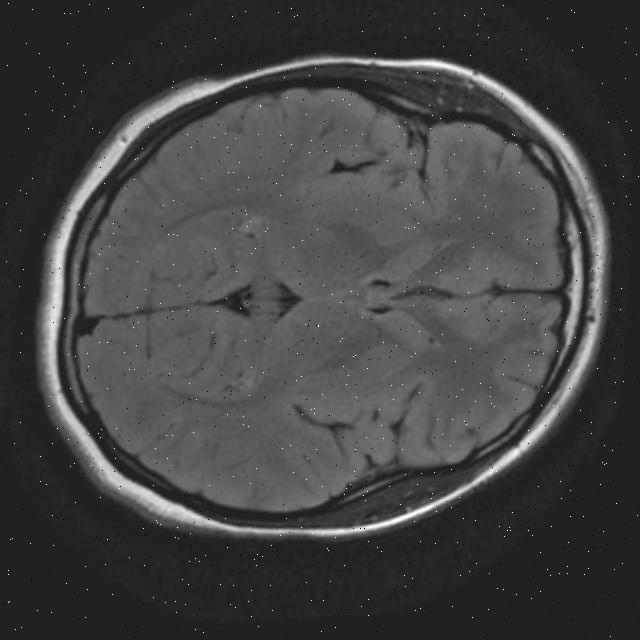NoTumor: (21, 25, 633, 571)
